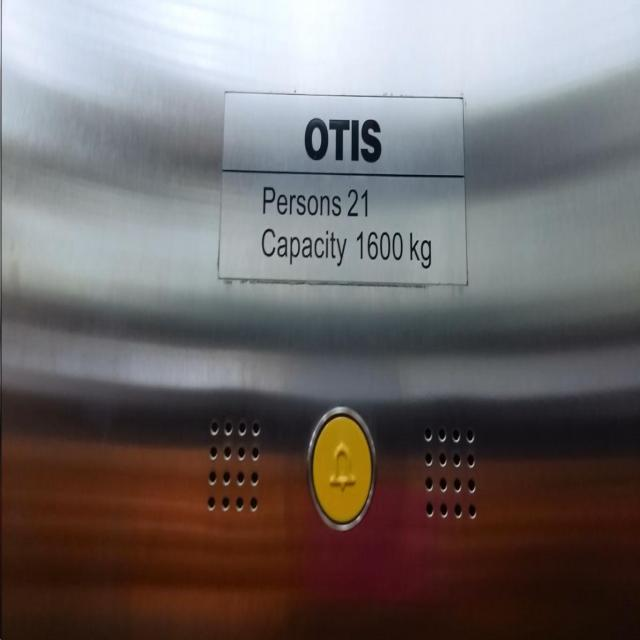alarm: (302, 394, 382, 544)
